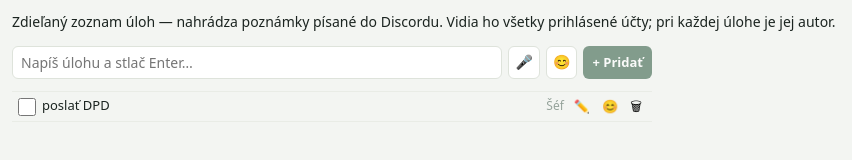
it: odstráni úlohu okamžite, bez potvrdzovacieho dialógu
Expected: the element with test id "uloha-row-task-a" is shown, [12,91,652,122]
Click the button with test id "uloha-delete-task-a". click: (636, 107)
box: [626,96,646,117]
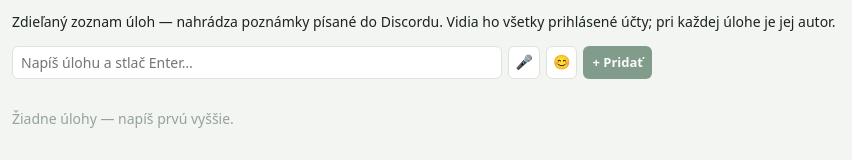
Expected: the text "Žiadne úlohy — napíš prvú vyššie." is shown, [12,109,234,128]
